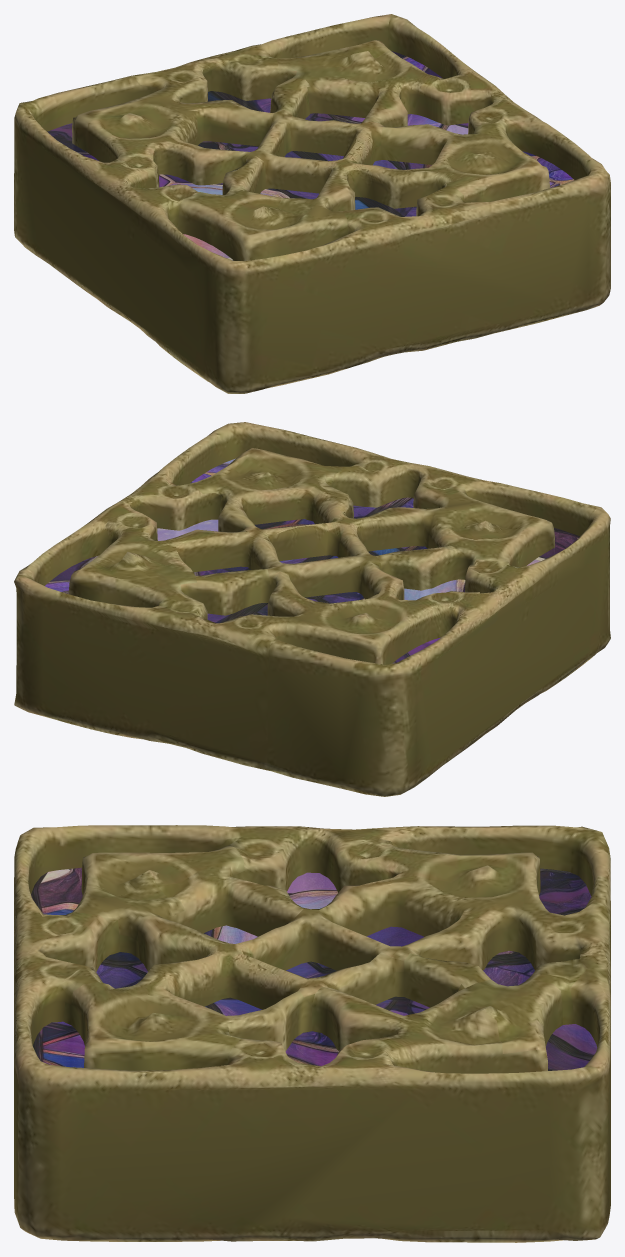
Rendered from tile005V1_lowPolyCompressed.glb.
3 renders of one model, top to bottom at view 1: azimuth 30°, elevation 25°; view 2: azimuth 150°, elevation 25°; view 3: azimuth 270°, elevation 25°, orthographic. The views are drawn at different scales.
Parts seen in each view (by area): view 1: tile5_low.001; view 2: tile5_low.001; view 3: tile5_low.001.
Part boxes in pixels (x1=…): tile5_low.001: x1=14, y1=14, x2=610, y2=393; tile5_low.001: x1=14, y1=422, x2=610, y2=796; tile5_low.001: x1=14, y1=825, x2=610, y2=1242.
Bounding box in the file's own units: 0.9807 × 0.4865 × 0.9801.
Materials: 3 (3 with a texture image).
